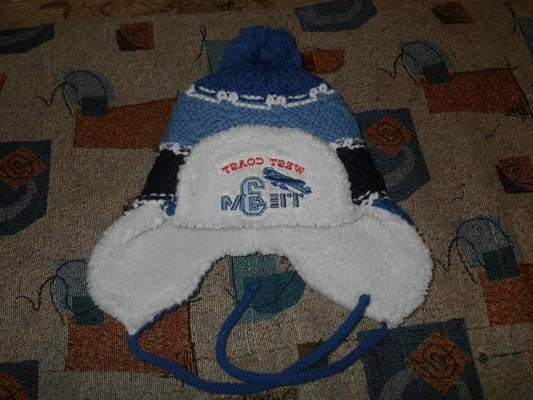Hat: (63, 23, 448, 357)
